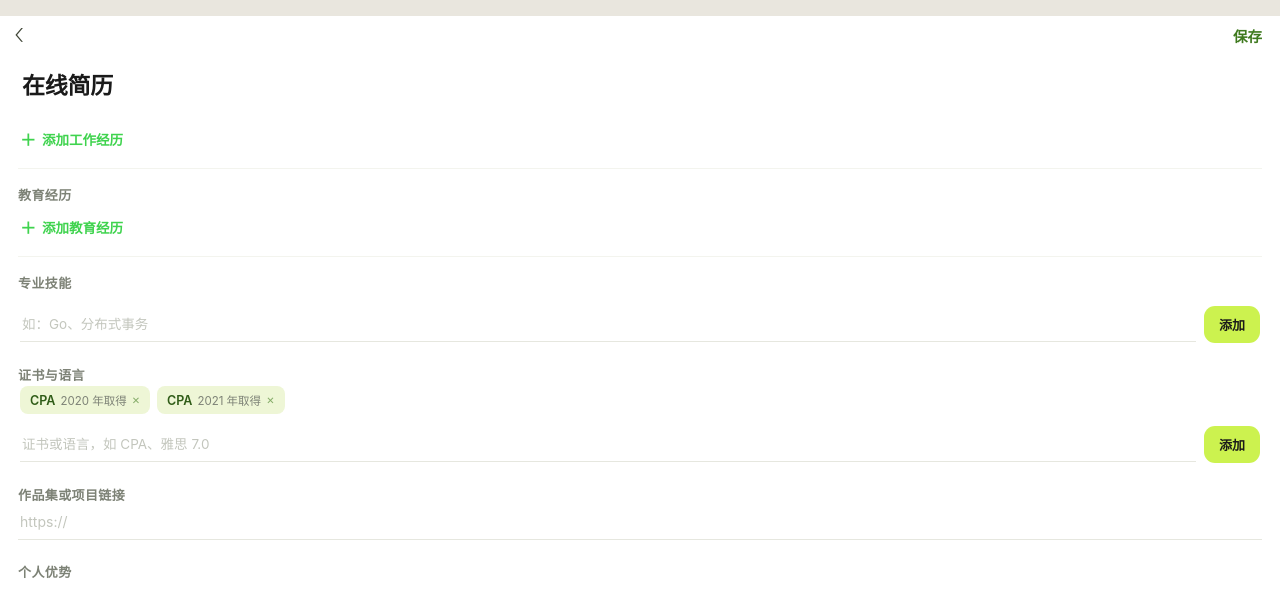
Test: 工作经历 · 技能/证书共用标签录入（Task 3） › 同名不同编号证书只删除目标：按编号过滤，另一条年份/编号保存不变
This screenshot has width=1280, height=600.
(page scrolled)
Expected: the text "2020 年取得" is shown, [60, 392, 127, 408]
Expected: the text "2021 年取得" is shown, [197, 392, 261, 408]
Click the button with aria-label "删除证书 CPA": (221, 400) [157, 386, 284, 414]
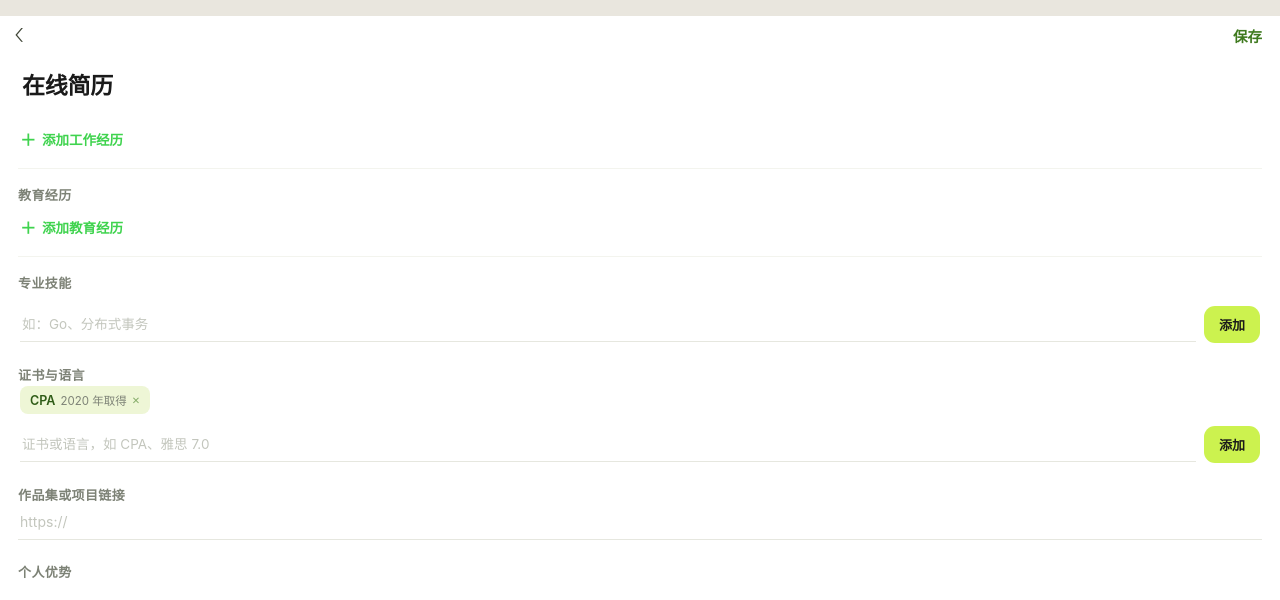
Expected: the text "2020 年取得" is shown, [60, 392, 127, 408]
Result: the button "2021 年取得" is gone
